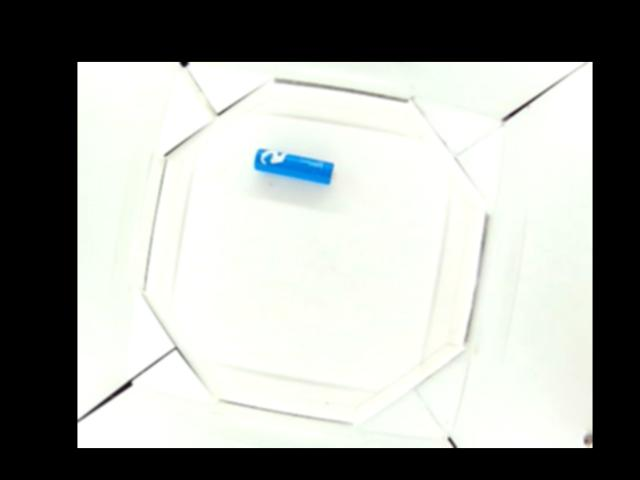Battery: (252, 147, 334, 184)
